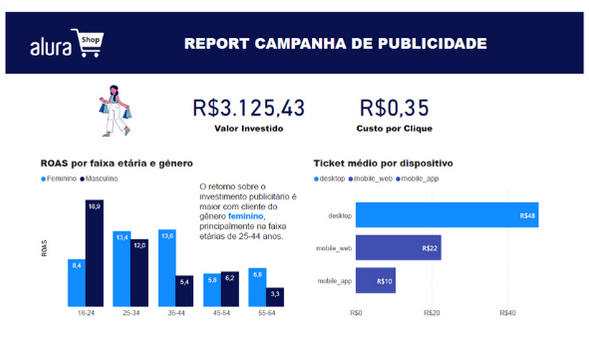

The dashboard page shown, as its layout file describes it:
{"tool":"powerbi","page":{"name":"Página 1","canvas":[1280,720],"ordinal":0},"visuals":[{"type":"shape","box":[0,0,1280,134.8],"z":0},{"type":"card","fields":{"Values":["Sum(Tabela_idade_e_genero.Quantia gasta (BRL))"]},"box":[400.7,142,275.6,150.4],"z":1000},{"type":"card","fields":{"Values":["_Medida.CPC"]},"box":[735.2,142,252.4,150.4],"z":2000},{"type":"clusteredColumnChart","title":"ROAS por faixa etária e gênero","fields":{"Category":["Tabela_idade_e_genero.Idade"],"Y":["_Medida.ROAS"],"Series":["Tabela_idade_e_genero.Gênero"]},"box":[71.5,318.7,592.1,361.8],"z":3000},{"type":"textbox","box":[424.2,369.7,239.4,146.9],"z":4000},{"type":"image","box":[50.5,8.4,171.4,117.8],"z":5000},{"type":"barChart","title":"Ticket médio por  dispositivo","fields":{"Y":["_Medida.Ticket médio"],"Category":["Tabela_dispositivos.Plataforma do dispositivo"],"Series":["Tabela_dispositivos.Plataforma do dispositivo"]},"box":[676.3,318.7,541.7,361.8],"z":6000},{"type":"textbox","box":[390,39.7,689.4,54.5],"z":7000},{"type":"image","box":[180.2,154.3,124.8,124.8],"z":8000}]}

Visuals, with their boxes on the page's 1280x720 design canvas (x1, y1, x2, y2). These are canvas units, not pixel positions in the 589x354 screenshot, which may show the page scaled, cropped or inside an application window:
shape: {"left": 0, "top": 0, "right": 1280, "bottom": 135}
card - Sum(Tabela_idade_e_genero.Quantia gasta (BRL)): {"left": 401, "top": 142, "right": 676, "bottom": 292}
card - _Medida.CPC: {"left": 735, "top": 142, "right": 988, "bottom": 292}
"ROAS por faixa etária e gênero" clusteredColumnChart: {"left": 72, "top": 319, "right": 664, "bottom": 680}
textbox: {"left": 424, "top": 370, "right": 664, "bottom": 517}
image: {"left": 50, "top": 8, "right": 222, "bottom": 126}
"Ticket médio por  dispositivo" barChart: {"left": 676, "top": 319, "right": 1218, "bottom": 680}
textbox: {"left": 390, "top": 40, "right": 1079, "bottom": 94}
image: {"left": 180, "top": 154, "right": 305, "bottom": 279}
